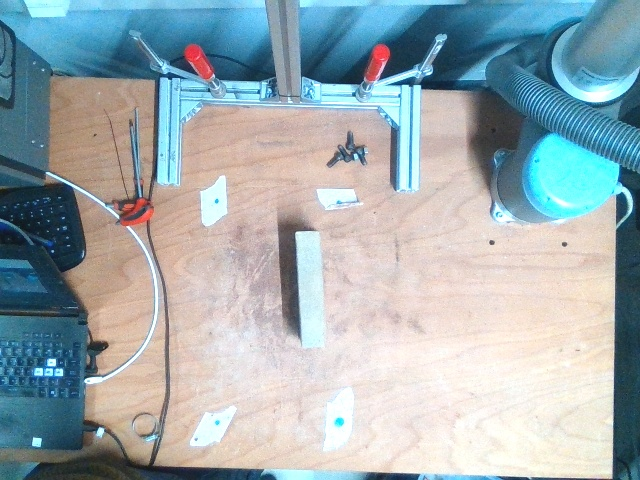brick-side: (298, 233, 323, 344)
